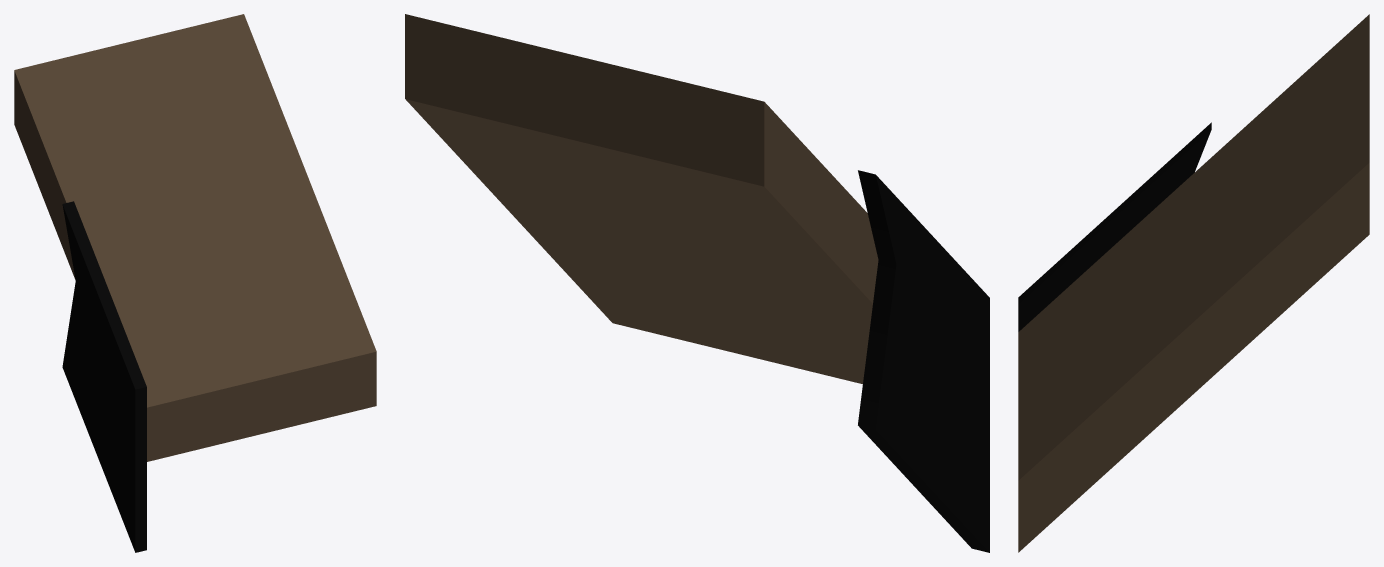
File: dach_ecke_l_kaputt.glb
3 views of the same model, side by side, from view 1: azimuth 30°, elevation 25°; view 2: azimuth 150°, elevation 25°; view 3: azimuth 270°, elevation 25° (orthographic). The views are drawn at different scales.
Parts seen in each view (by area): view 1: dach_ecke_l_kaputt; view 2: dach_ecke_l_kaputt; view 3: dach_ecke_l_kaputt.
Part boxes in pixels (x1,y1,x2,y2): dach_ecke_l_kaputt: [14, 14, 376, 552]; dach_ecke_l_kaputt: [405, 14, 989, 552]; dach_ecke_l_kaputt: [1018, 14, 1369, 552].
Bounding box in the file's own units: 0.525 × 0.7963 × 0.5.
